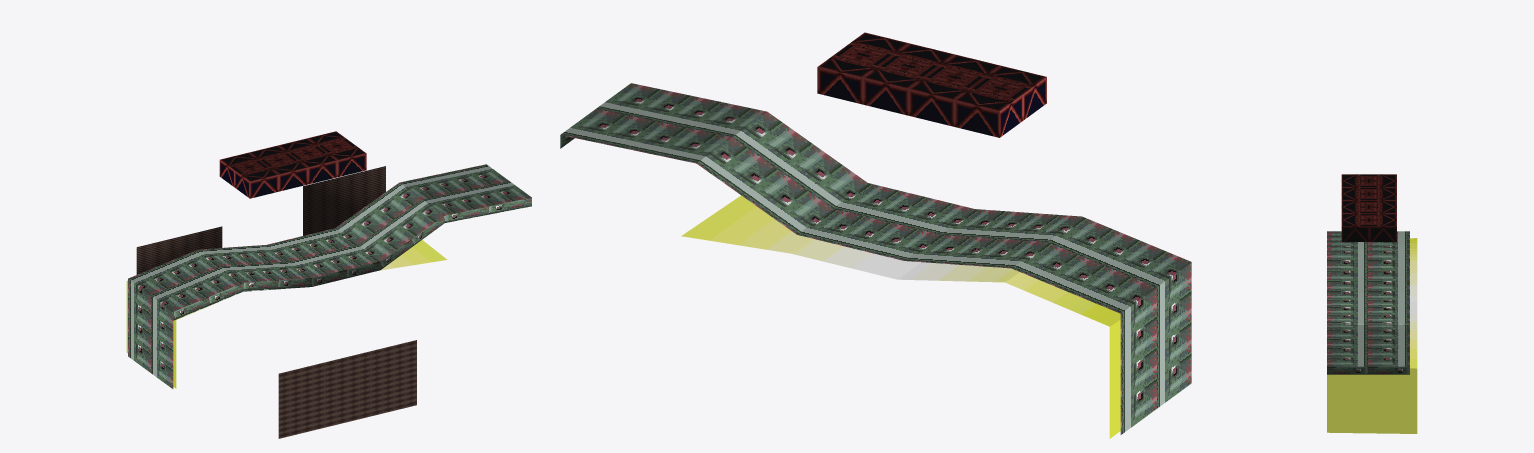
Rendered from MetalCavern.glb.
The picture shows the model from 3 angles, left to right: view 1: azimuth 30°, elevation 25°; view 2: azimuth 150°, elevation 25°; view 3: azimuth 270°, elevation 25°; orthographic projection. The views are drawn at different scales.
Visible parts, largest first — view 1: MetalCavern_16, MetalCavern_Alpha_7, MetalCavern_17, MetalCavern_13, MetalCavern_18, MetalCavern_15, MetalCavern_19, MetalCavern_11; view 2: MetalCavern_16, MetalCavern_17, MetalCavern_18, MetalCavern_11; view 3: MetalCavern_16, MetalCavern_11, MetalCavern_18, MetalCavern_17, MetalCavern_14.
Boxes of the visible parts, x1,y1,x2,y2 form: MetalCavern_16: [128, 228, 379, 388]; MetalCavern_Alpha_7: [278, 340, 416, 438]; MetalCavern_17: [335, 164, 531, 260]; MetalCavern_13: [136, 166, 385, 274]; MetalCavern_18: [219, 131, 365, 198]; MetalCavern_15: [173, 197, 531, 320]; MetalCavern_19: [250, 153, 366, 198]; MetalCavern_11: [126, 240, 447, 388]; MetalCavern_16: [797, 183, 1191, 434]; MetalCavern_17: [560, 83, 867, 234]; MetalCavern_18: [817, 32, 1046, 137]; MetalCavern_11: [681, 195, 1120, 438]; MetalCavern_16: [1327, 231, 1409, 323]; MetalCavern_11: [1327, 238, 1417, 433]; MetalCavern_18: [1341, 174, 1396, 241]; MetalCavern_17: [1327, 323, 1409, 366]; MetalCavern_14: [1327, 366, 1409, 374].
Bounding box in the file's own units: 546 × 415 × 363.
Materials: 21 (21 with a texture image).
